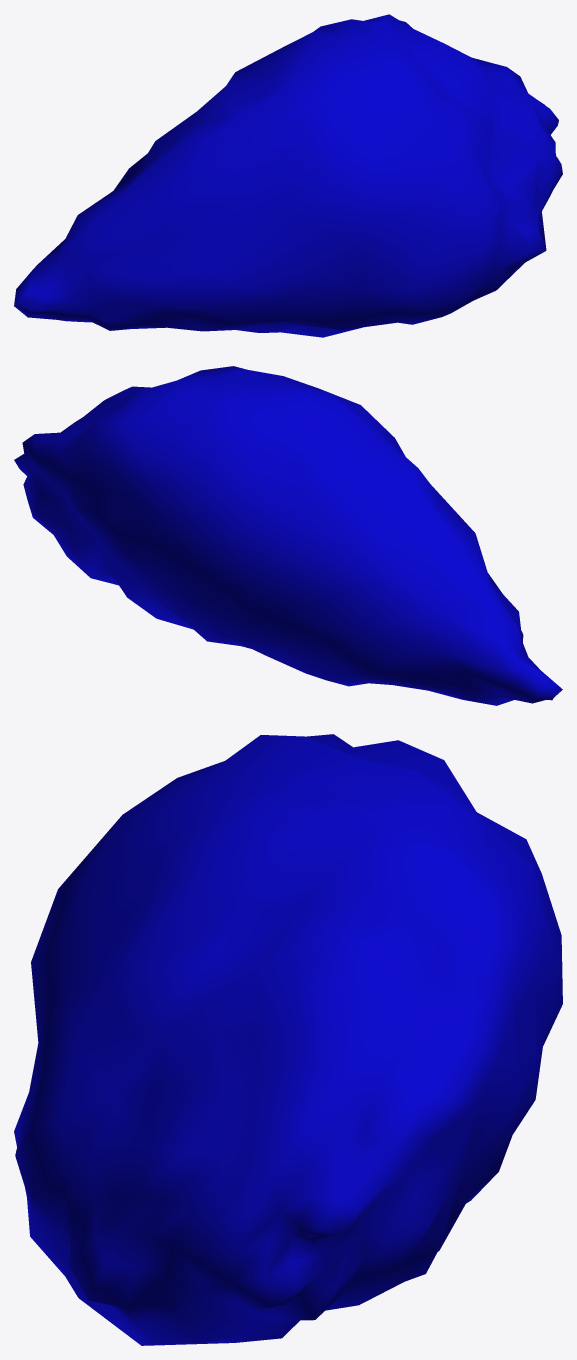
Rendered from Огниво.fbx.
3 views of the same model, one above another, from view 1: azimuth 30°, elevation 25°; view 2: azimuth 150°, elevation 25°; view 3: azimuth 270°, elevation 25° (orthographic). The views are drawn at different scales.
Visible parts, largest first — view 1: L.001; view 2: L.001; view 3: L.001.
Boxes of the visible parts, left/top/right/bottom form: L.001: left=14, top=14, right=562, bottom=337; L.001: left=14, top=366, right=562, bottom=705; L.001: left=14, top=734, right=562, bottom=1345.
Size of the model in its own units: 524 by 242 by 241.
